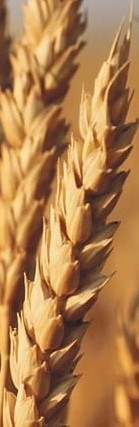Healthy Wheat: (15, 55, 139, 411)
